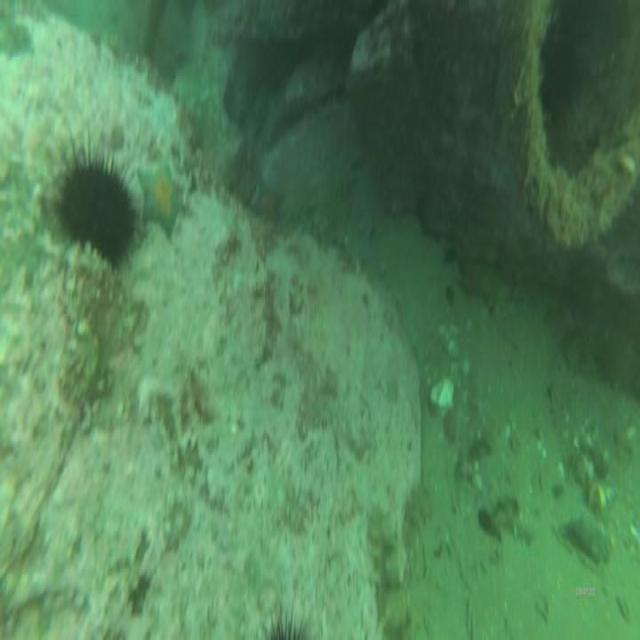echinus: (58, 147, 134, 272)
starfish: (135, 153, 189, 240), (251, 171, 286, 232)
